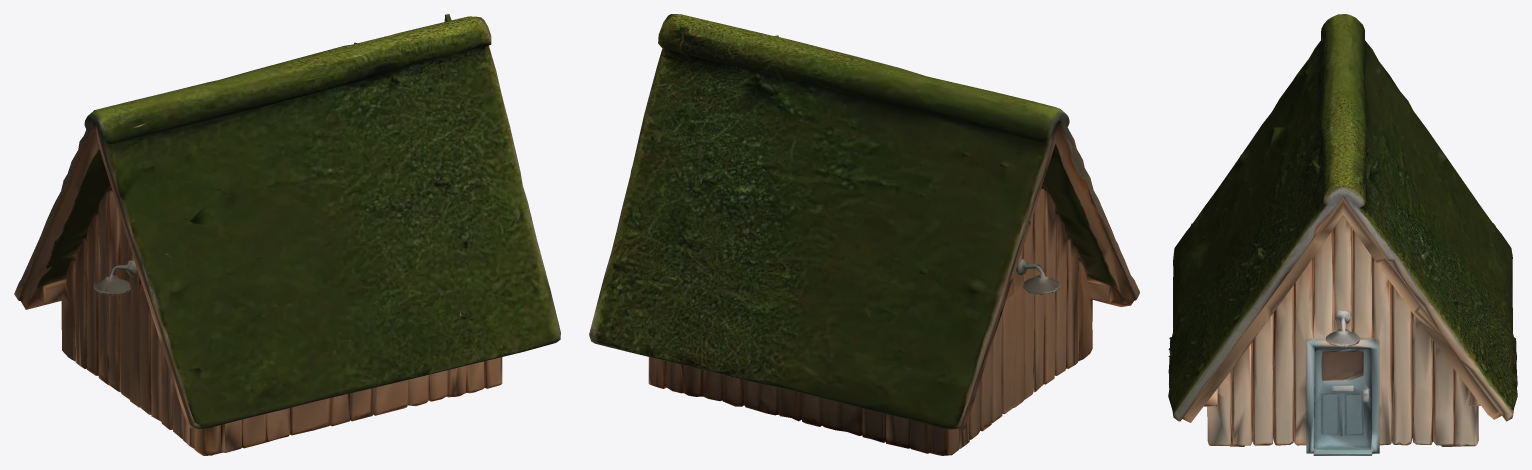
Rendered from aframe-2.glb.
3 renders of one model, left to right at view 1: azimuth 30°, elevation 25°; view 2: azimuth 150°, elevation 25°; view 3: azimuth 270°, elevation 25°, orthographic. The views are drawn at different scales.
Visible parts, largest first — view 1: tripo_node_dd268012-96c7-4abe-b1b8-0c37e240d4db; view 2: tripo_node_dd268012-96c7-4abe-b1b8-0c37e240d4db; view 3: tripo_node_dd268012-96c7-4abe-b1b8-0c37e240d4db.
Boxes of the visible parts, box(x1,y1,x2,y2) form: tripo_node_dd268012-96c7-4abe-b1b8-0c37e240d4db: box(14, 14, 560, 455); tripo_node_dd268012-96c7-4abe-b1b8-0c37e240d4db: box(589, 14, 1139, 455); tripo_node_dd268012-96c7-4abe-b1b8-0c37e240d4db: box(1168, 14, 1517, 455).
Bounding box in the file's own units: 0.9998 × 0.7754 × 0.8349.
Materials: 1 (1 with a texture image).
